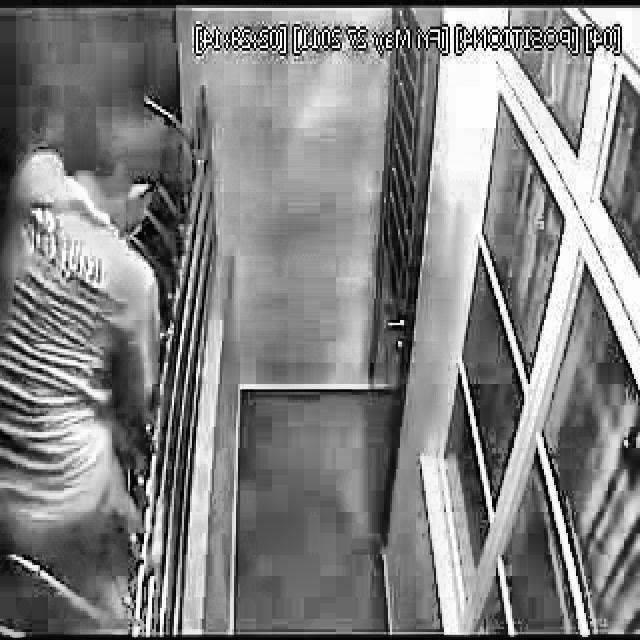burglary: (0, 94, 195, 630)
